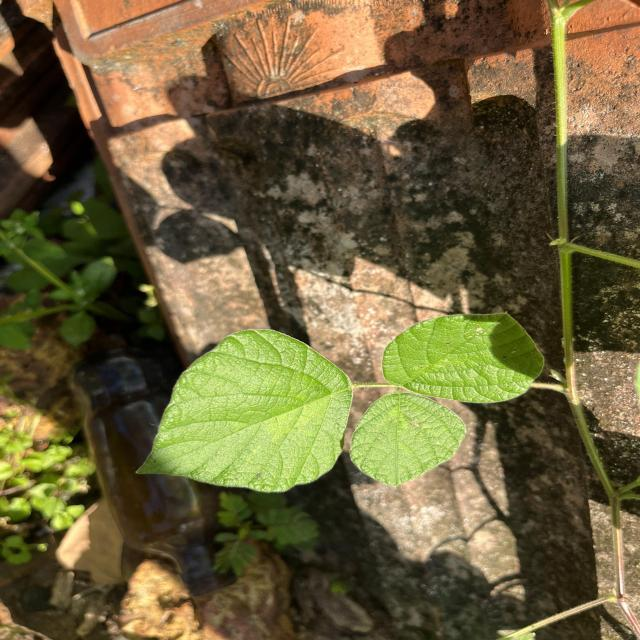Pseudarthria viscida: (130, 304, 554, 498)
